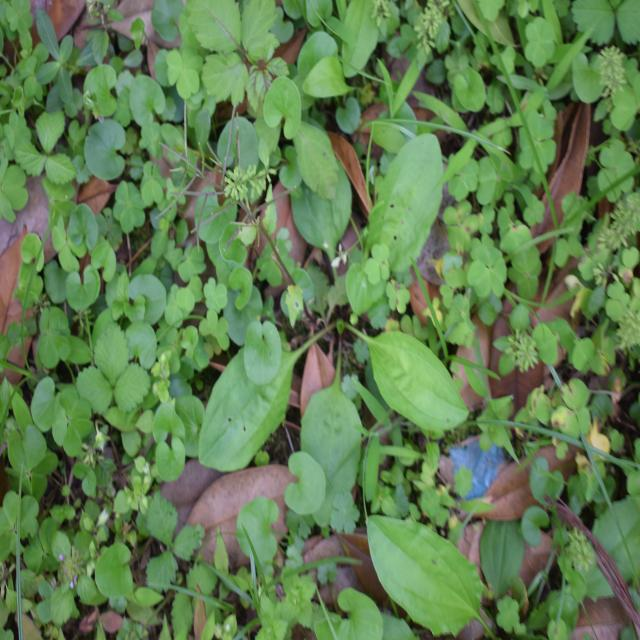plantain: (195, 138, 471, 474)
